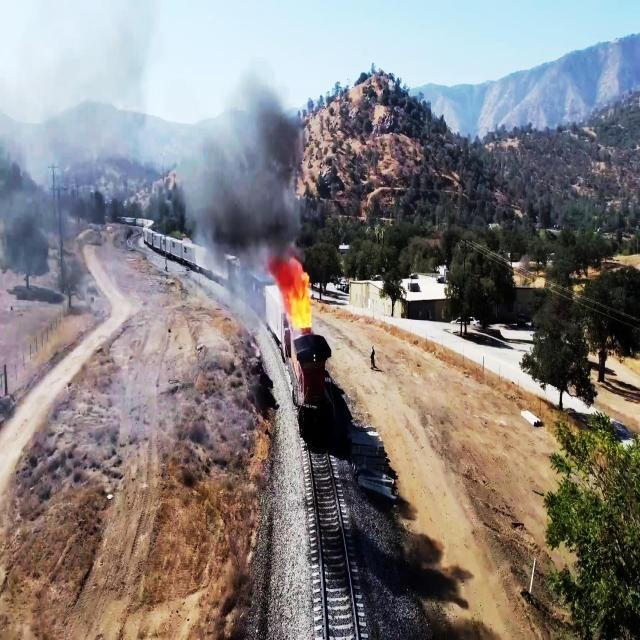Fire: (282, 256, 314, 336)
Smoke: (0, 0, 293, 259)
